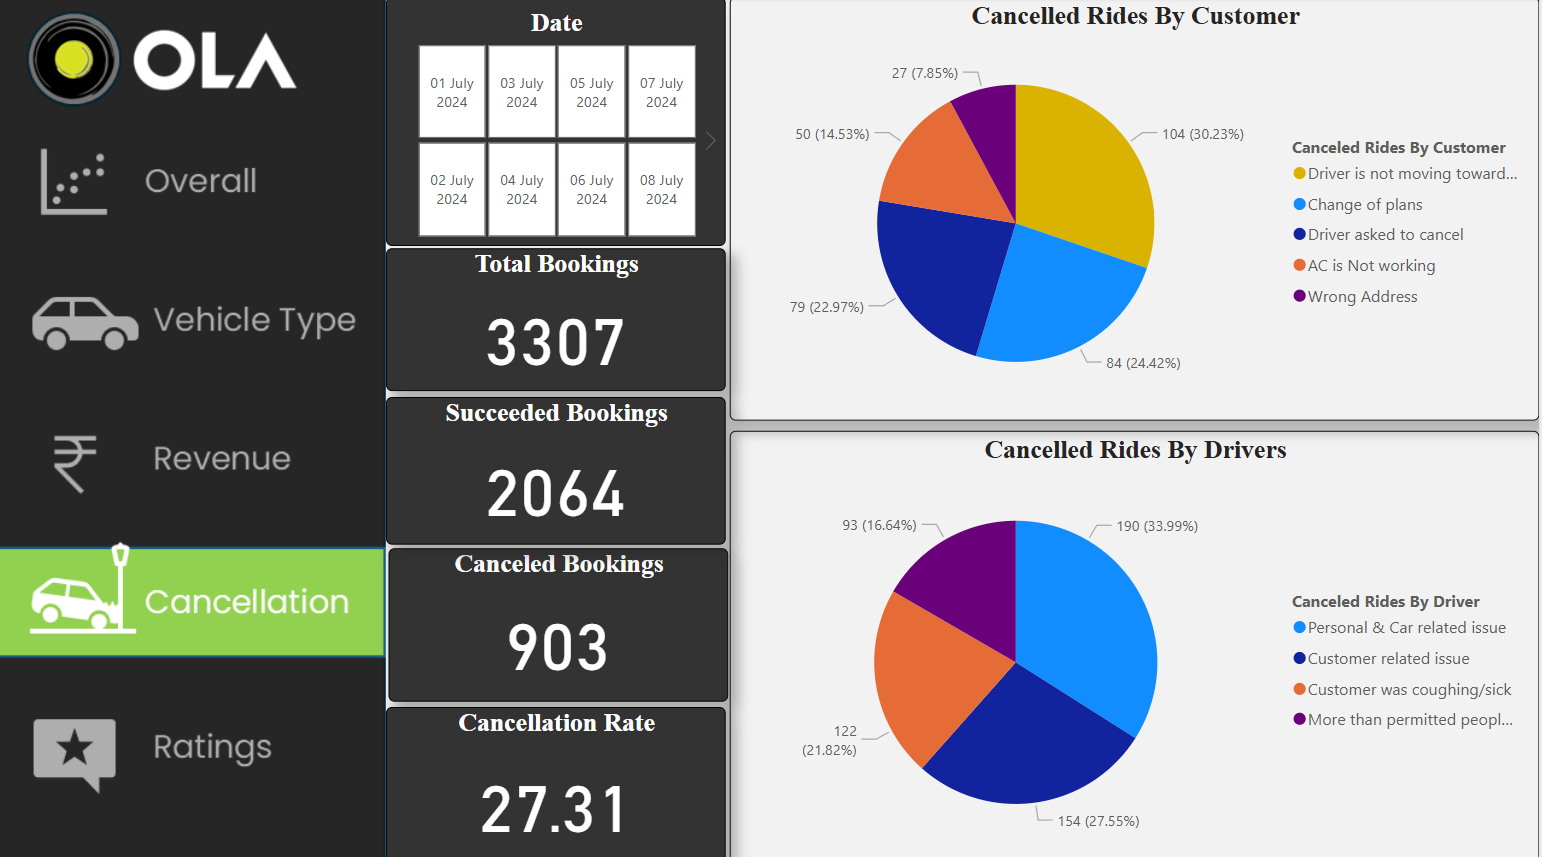

The dashboard page shown, as its layout file describes it:
{"tool":"powerbi","page":{"name":"Cancellation","canvas":[1280,720],"ordinal":3},"visuals":[{"type":"actionButton","box":[0,223.4,323.3,90.7],"z":0},{"type":"actionButton","box":[0,340.3,323.3,90.7],"z":1000},{"type":"actionButton","box":[0,579.6,323.3,90.7],"z":2000},{"type":"actionButton","box":[0,106.6,323.3,90.7],"z":3000},{"type":"pieChart","title":"Cancelled Rides By Customer","fields":{"Category":["July.Canceled_Rides_by_Customer"],"Y":["CountNonNull(July.Canceled_Rides_by_Customer)"]},"box":[608.8,0,671.2,351.2],"z":4000},{"type":"pieChart","title":"Cancelled Rides By Drivers","fields":{"Category":["July.Canceled_Rides_by_Driver"],"Y":["CountNonNull(July.Canceled_Rides_by_Driver)"]},"box":[608.8,360,671.2,360],"z":5000},{"type":"slicer","title":"Date","fields":{"Values":["July.Date"]},"box":[323.8,0,281.2,206.2],"z":6000},{"type":"card","title":"Total Bookings","fields":{"Values":["CountNonNull(July.Booking_ID)"]},"box":[323.8,208.8,281.2,118.8],"z":7000},{"type":"card","title":"Canceled Bookings","fields":{"Values":["CountNonNull(July.Booking_ID)"]},"box":[325,457.5,281.2,127],"z":8000},{"type":"card","title":"Cancellation Rate","fields":{"Values":["July.CanceledPercentage"]},"box":[323.8,588.8,281.2,131.2],"z":9000},{"type":"card","title":"Succeeded Bookings","fields":{"Values":["CountNonNull(July.Booking_ID)"]},"box":[323.8,331.2,281.2,122],"z":10000}]}

Visuals, with their boxes in screenshot pixels (x1, y1, x2, y2), scaled from the page's 1280x720 canvas onto the 1542x857 screenshot:
actionButton: [x1=0, y1=266, x2=389, y2=374]
actionButton: [x1=0, y1=405, x2=389, y2=513]
actionButton: [x1=0, y1=690, x2=389, y2=798]
actionButton: [x1=0, y1=127, x2=389, y2=235]
"Cancelled Rides By Customer" pieChart: [x1=733, y1=0, x2=1541, y2=418]
"Cancelled Rides By Drivers" pieChart: [x1=733, y1=428, x2=1541, y2=856]
"Date" slicer: [x1=390, y1=0, x2=729, y2=245]
"Total Bookings" card: [x1=390, y1=249, x2=729, y2=390]
"Canceled Bookings" card: [x1=392, y1=545, x2=730, y2=696]
"Cancellation Rate" card: [x1=390, y1=701, x2=729, y2=856]
"Succeeded Bookings" card: [x1=390, y1=394, x2=729, y2=539]
